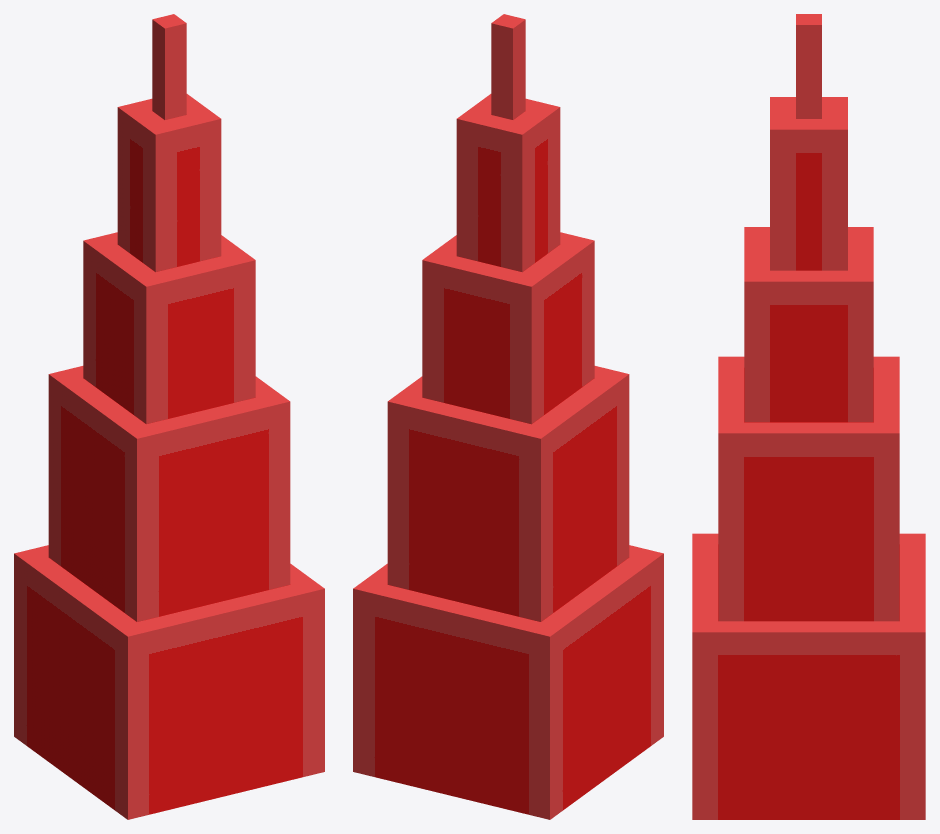
Rendered from spike.obj.
3 views of the same model, side by side, from view 1: azimuth 30°, elevation 25°; view 2: azimuth 150°, elevation 25°; view 3: azimuth 270°, elevation 25° (orthographic). The views are drawn at different scales.
Visible parts, largest first — view 1: cube.004_Mesh_4; view 2: cube.004_Mesh_4; view 3: cube.004_Mesh_4.
Part boxes in pixels (<box>): cube.004_Mesh_4: <box>14,14,324,819</box>; cube.004_Mesh_4: <box>353,14,663,819</box>; cube.004_Mesh_4: <box>692,14,925,819</box>.
Size of the model in its own units: 0.5625 by 2 by 0.5625.
Materials: 1 (1 with a texture image).
